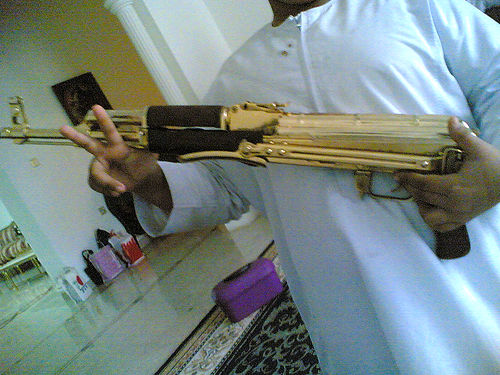rifle: (138, 109, 451, 168)
rifle in hand: (5, 90, 476, 248)
